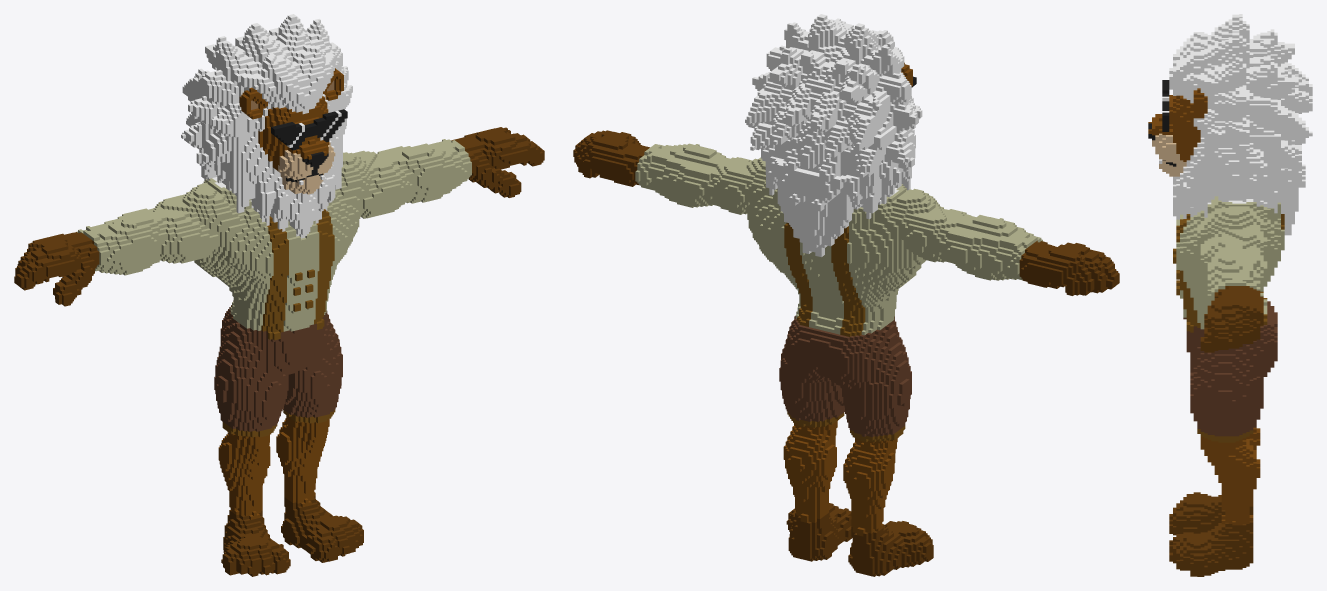
The model's file is 595-BbutBmV8.glb.
The picture shows the model from 3 angles, left to right: view 1: azimuth 30°, elevation 25°; view 2: azimuth 150°, elevation 25°; view 3: azimuth 270°, elevation 25°; orthographic projection. The views are drawn at different scales.
Parts seen in each view (by area): view 1: standard; view 2: standard; view 3: standard.
Boxes of the visible parts, x1,y1,x2,y2 form: standard: (14, 14, 544, 576); standard: (573, 14, 1119, 576); standard: (1148, 14, 1312, 576).
Size of the model in its own units: 17.2 by 16.5 by 4.7.
Materials: 5 (5 with a texture image).
